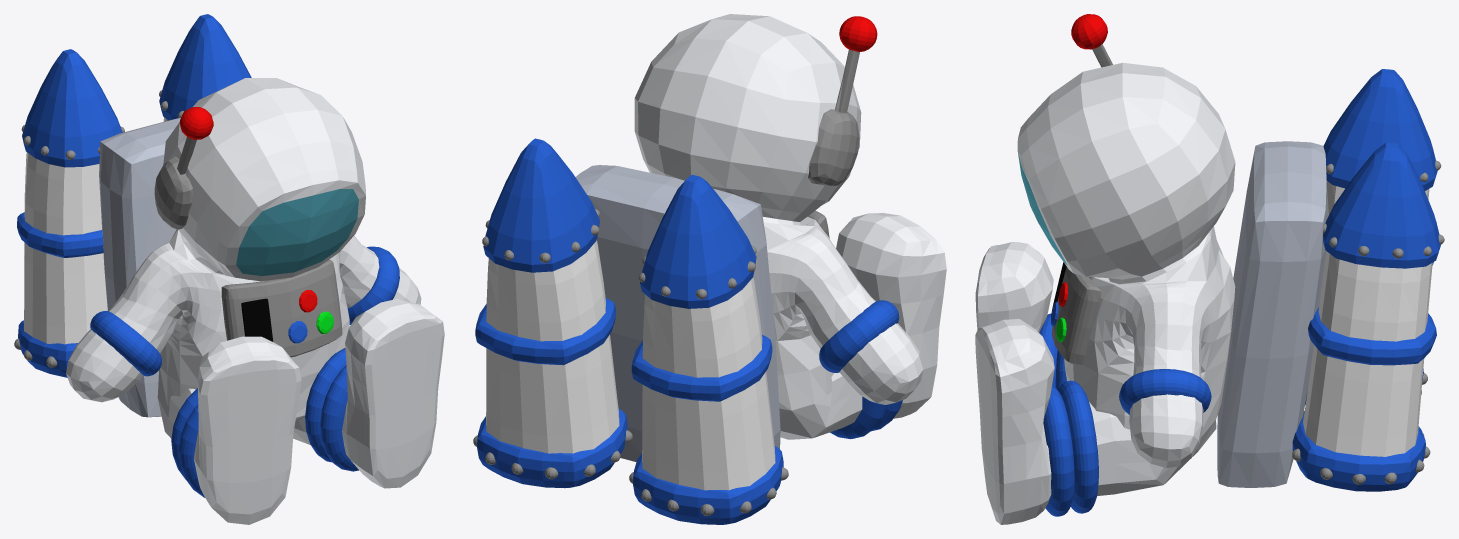
Rendered from sitdown.fbx.
The picture shows the model from 3 angles, left to right: view 1: azimuth 30°, elevation 25°; view 2: azimuth 150°, elevation 25°; view 3: azimuth 270°, elevation 25°; orthographic projection. The views are drawn at different scales.
Parts seen in each view (by area): view 1: pSphere70; view 2: pSphere70; view 3: pSphere70.
Part boxes in pixels (left/top/right/bottom): pSphere70: left=14, top=14, right=444, bottom=524; pSphere70: left=473, top=14, right=946, bottom=524; pSphere70: left=975, top=14, right=1444, bottom=524.
Size of the model in its own units: 18.3 by 19.56 by 19.77.
